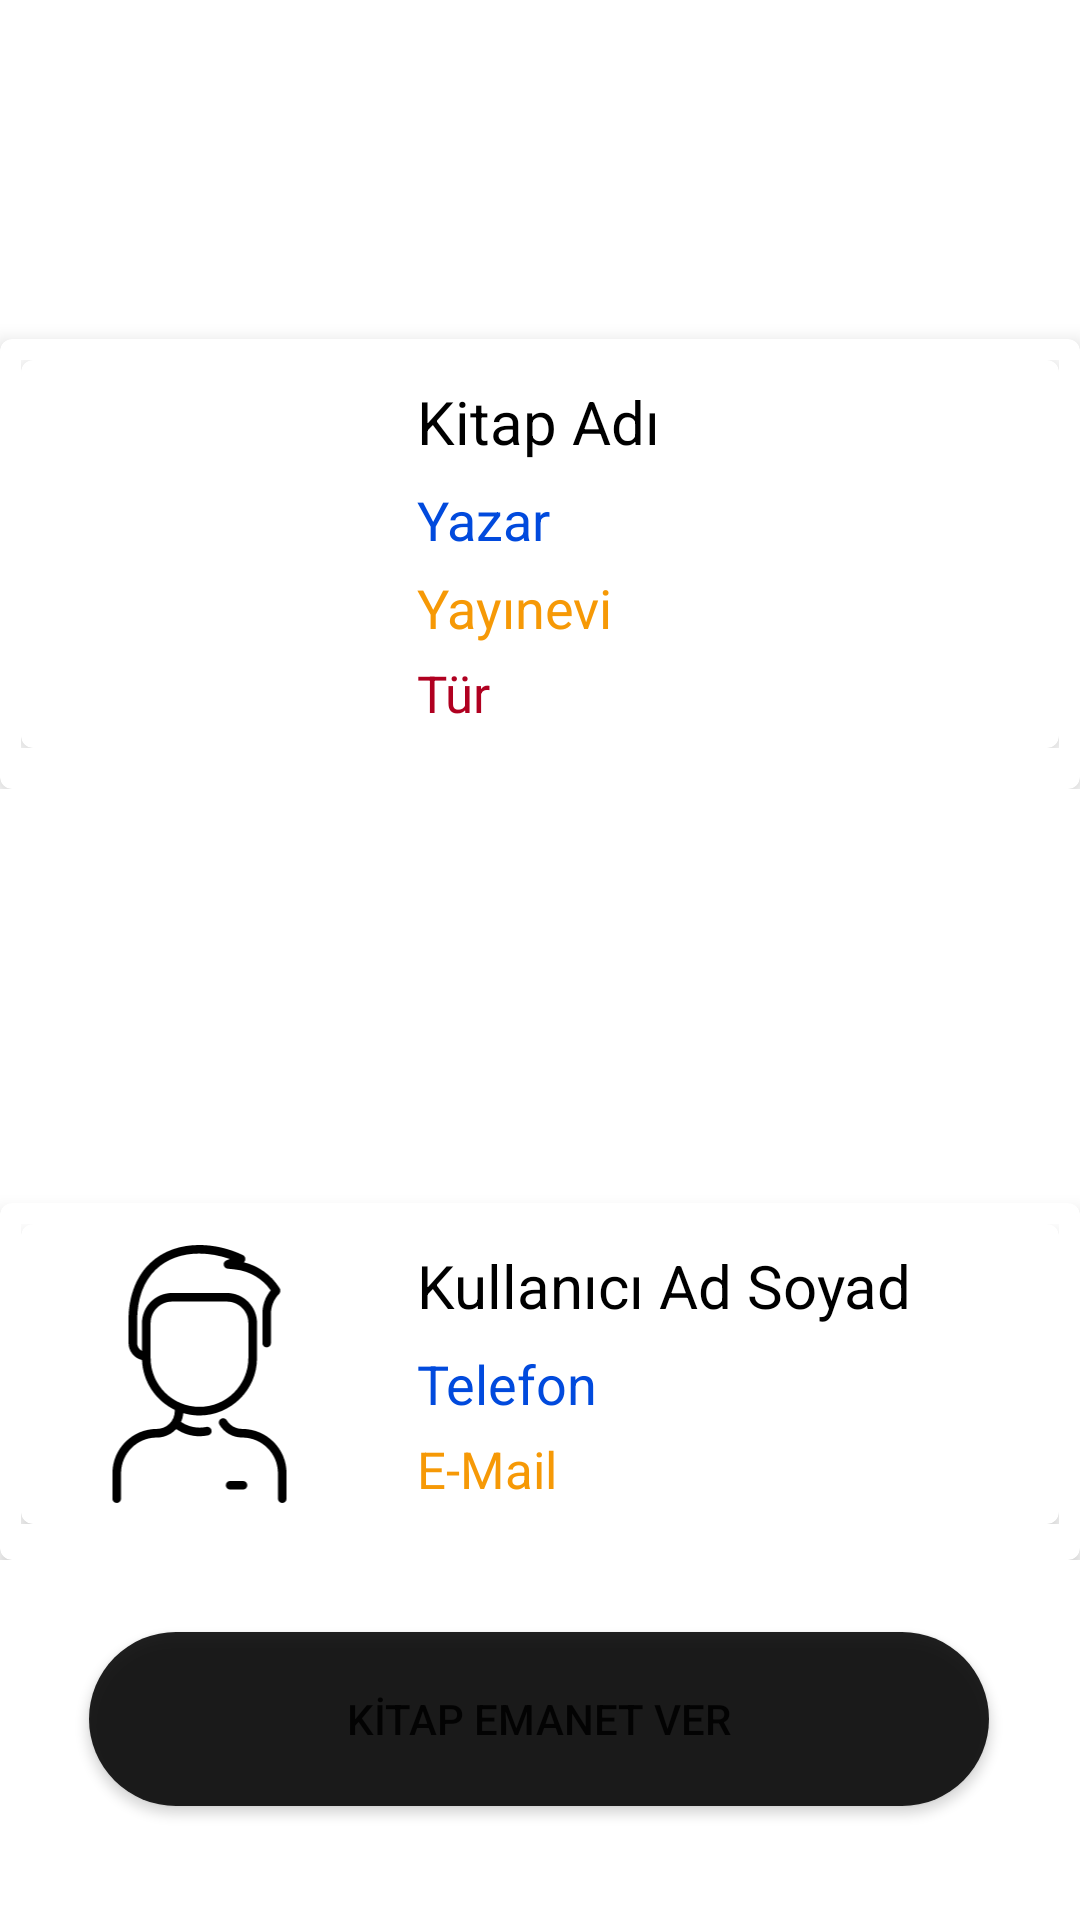

Icons on this 1080x1920 Android screen, each with its box as detection(x1, y1, x2, y2):
man: detection(112, 1245, 287, 1503)
